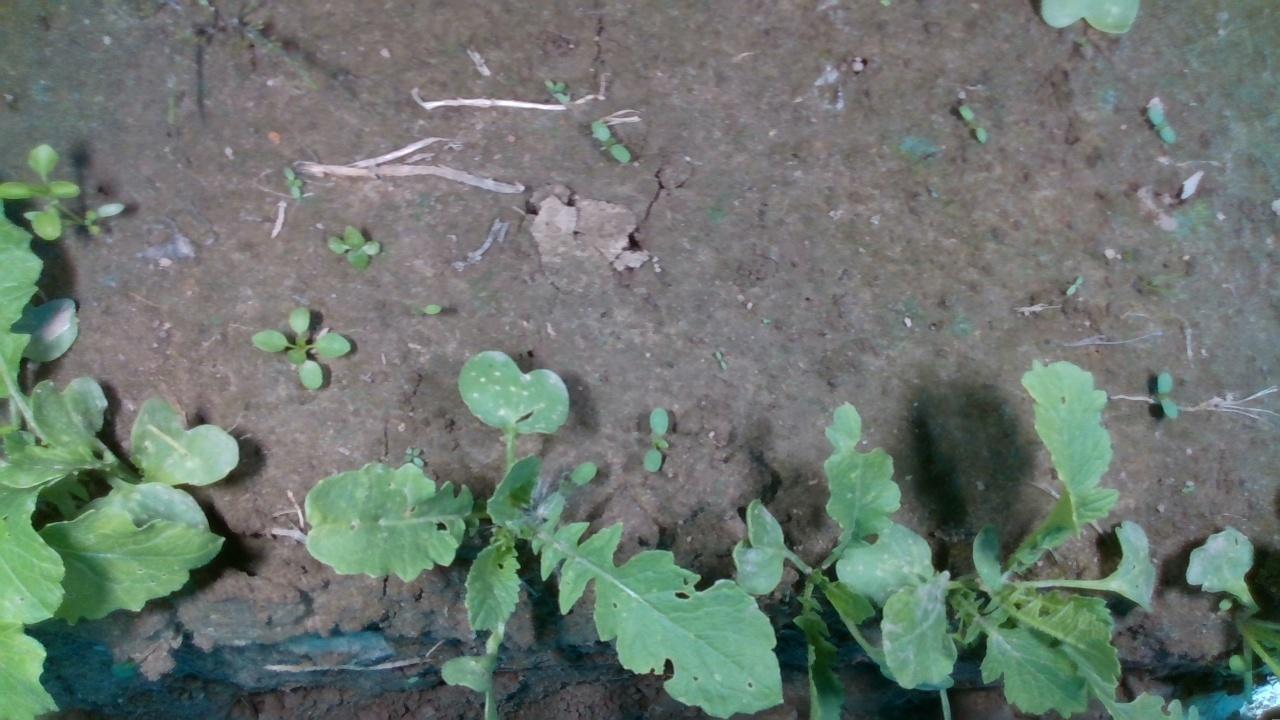weed: (322, 222, 383, 272), (641, 405, 671, 476), (590, 119, 630, 166), (956, 100, 989, 146), (1145, 101, 1177, 147), (1155, 369, 1181, 421), (280, 165, 306, 202), (406, 301, 443, 319), (713, 350, 726, 372)
